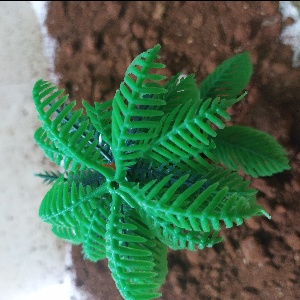plant: (24, 52, 249, 280)
